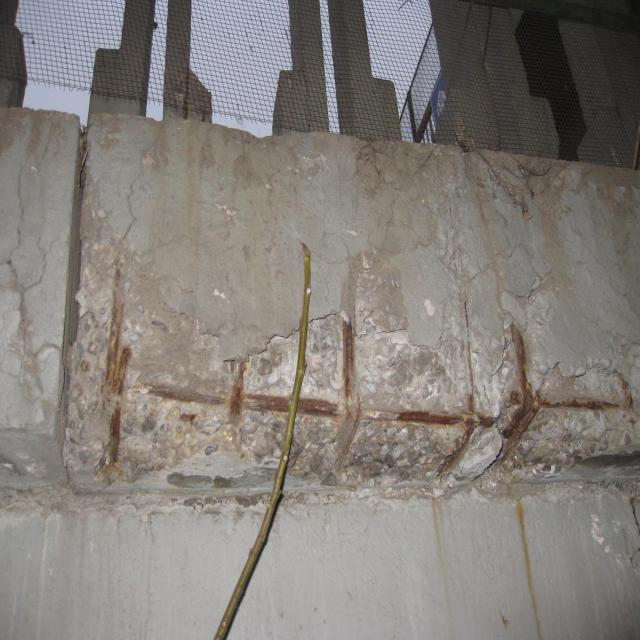Rebar: (66, 238, 640, 490)
vertical crack: (0, 152, 48, 284), (121, 124, 161, 238)
